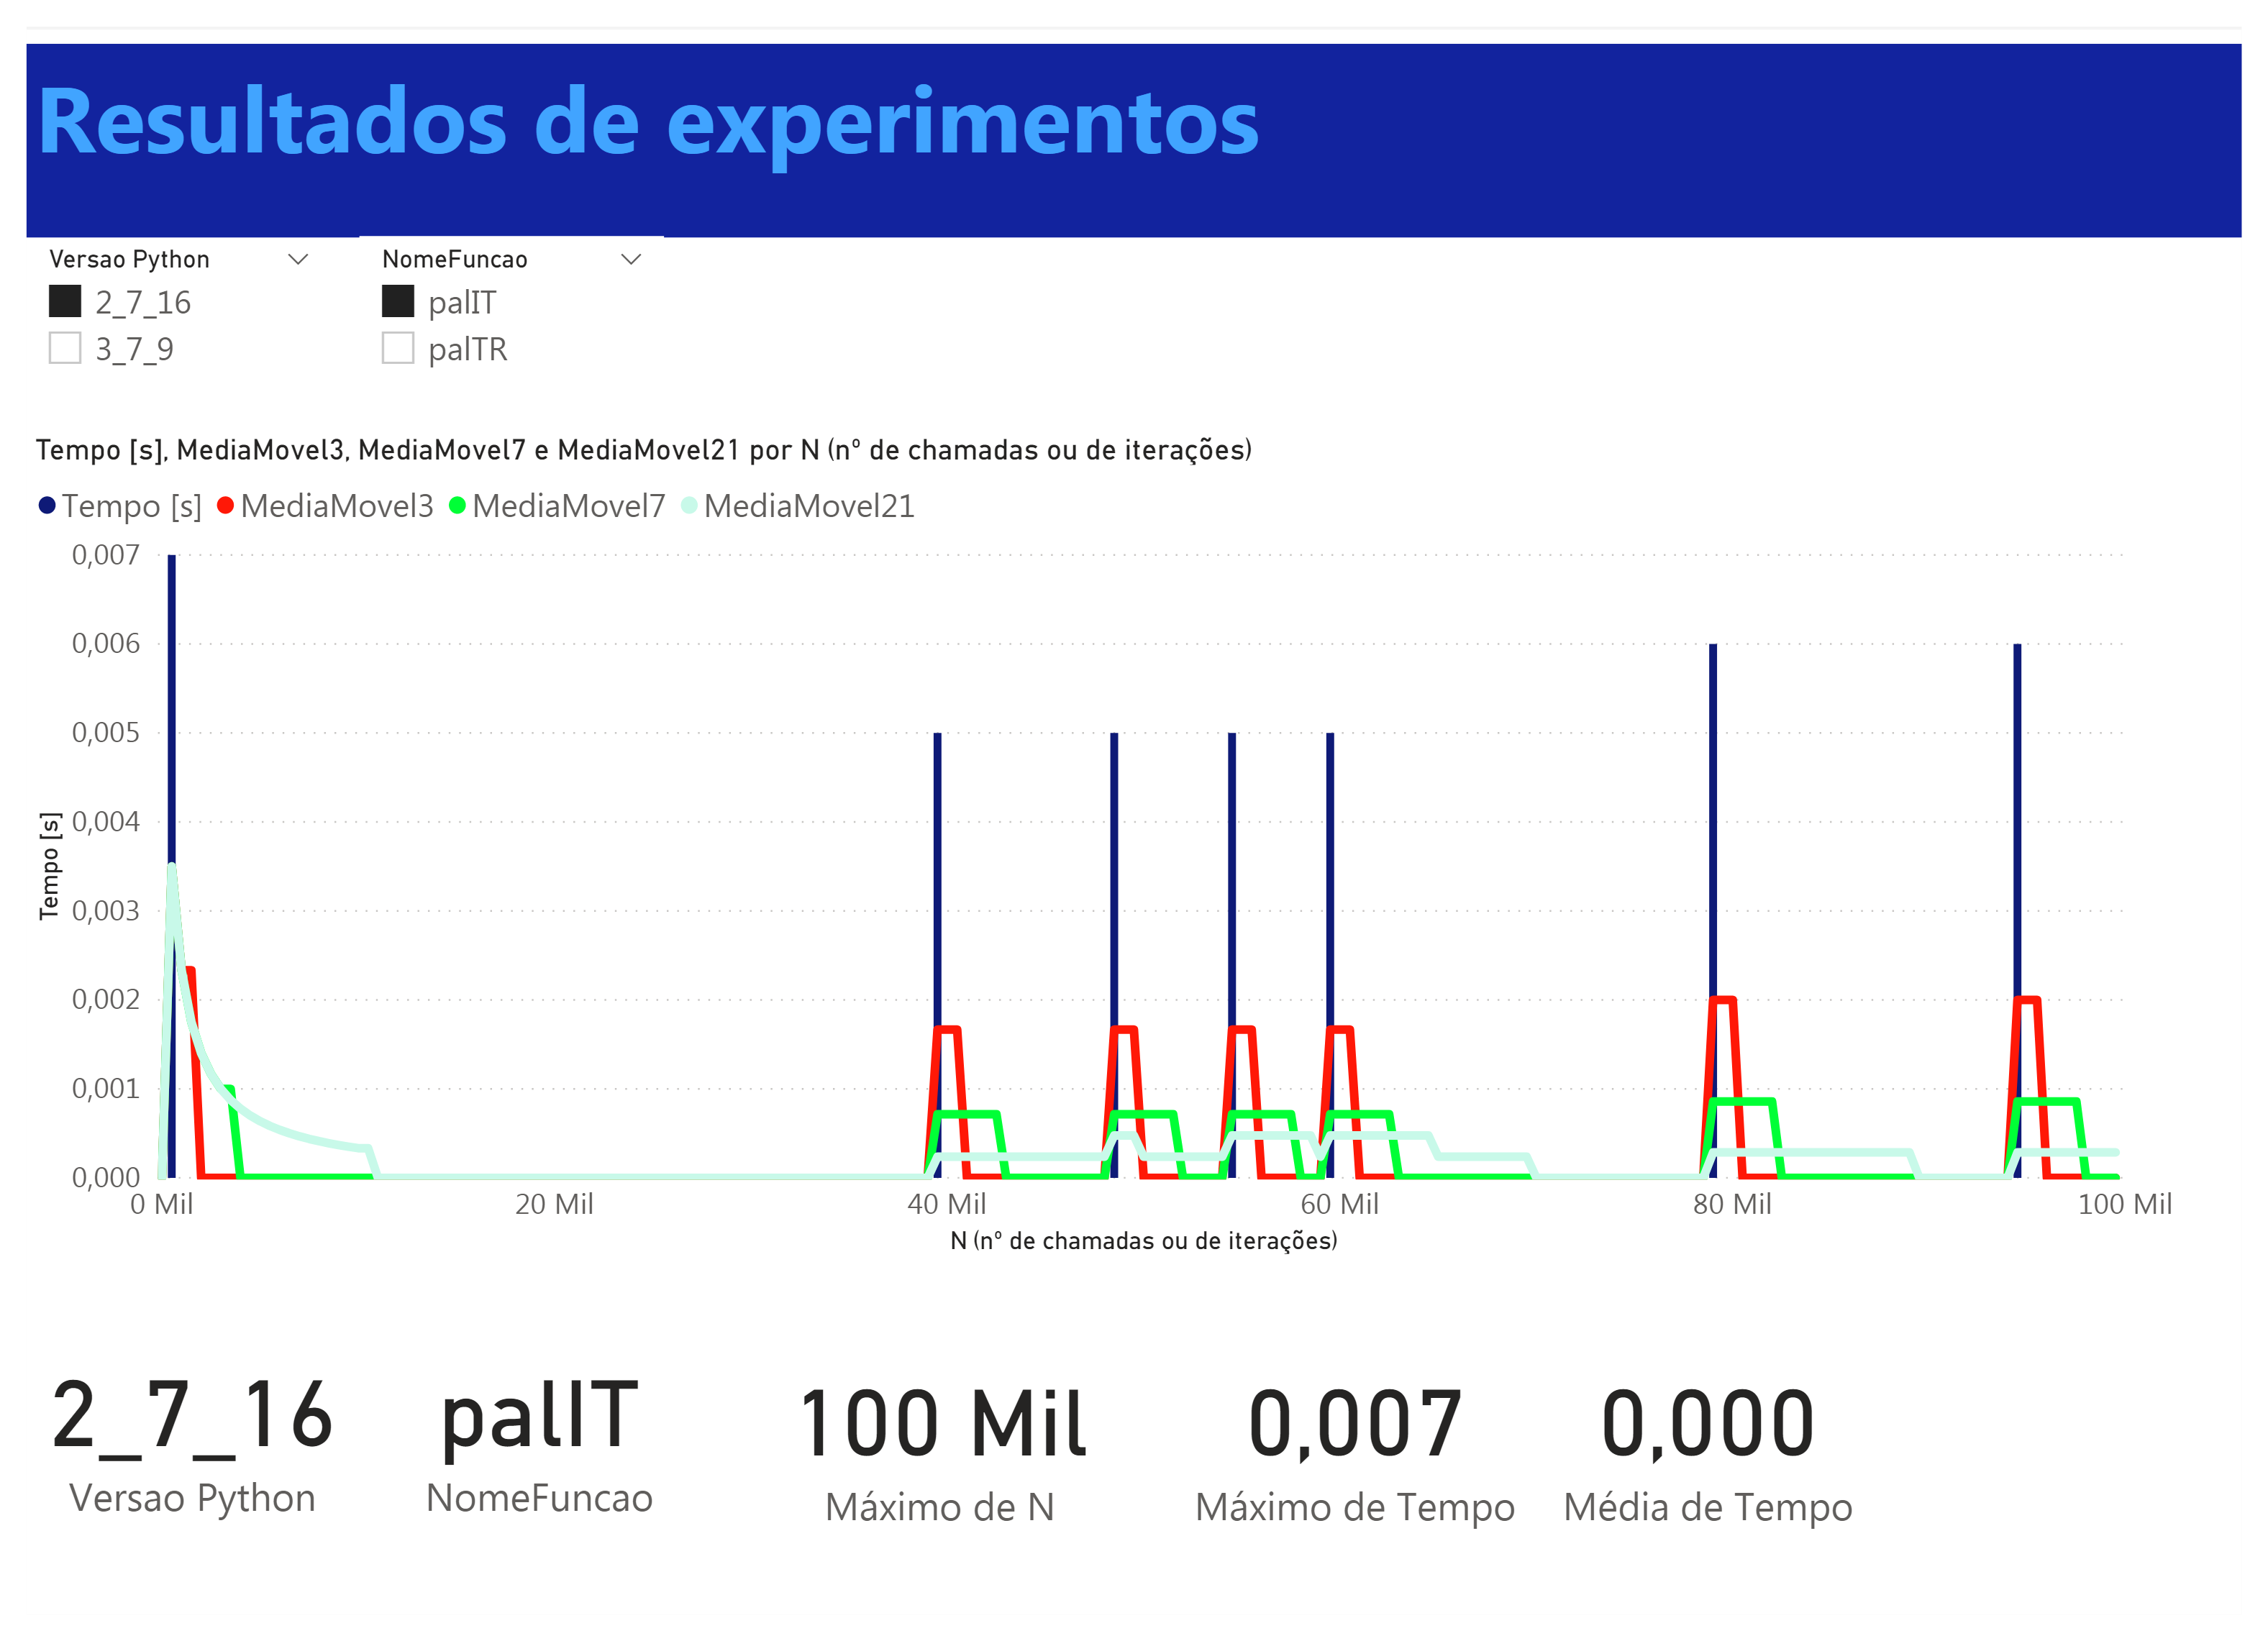

Layout of this report page (visuals, bound fields, positions):
{"tool":"powerbi","page":{"name":"Palíndromo","canvas":[1280,900],"ordinal":9},"visuals":[{"type":"card","fields":{"Values":["Max(Tabela1.Tempo)"]},"box":[648,720,240,168],"z":0},{"type":"card","fields":{"Values":["Min(Tabela1.NomeFuncao)"]},"box":[192,704,208,192],"z":1000},{"type":"card","fields":{"Values":["Max(Tabela1.N)"]},"box":[432,720,192,168],"z":2000},{"type":"card","fields":{"Values":["Avg(Tabela1.Tempo)"]},"box":[864,720,216,168],"z":3000},{"type":"slicer","fields":{"Values":["Tabela1.Versao Python"]},"box":[0,112,176,112],"z":4000},{"type":"card","fields":{"Values":["Min(Tabela1.Versao Python)"]},"box":[0,704,192,192],"z":5000},{"type":"textbox","box":[0,0,1280,112],"z":6000},{"type":"slicer","fields":{"Values":["Tabela1.NomeFuncao"]},"box":[192,112,176,112],"z":7000},{"type":"lineClusteredColumnComboChart","fields":{"Y":["Sum(Tabela1.Tempo)"],"Category":["Tabela1.N"],"Y2":["Tabela1.MediaMovel3","Tabela1.MediaMovel7","Tabela1.MediaMovel21"]},"box":[0,224,1248,480],"z":8000}]}

Visuals, with their boxes in screenshot pixels (x1, y1, x2, y2), scaled from the page's 1280x900 canvas onto the 2268x1641 screenshot:
card - Max(Tabela1.Tempo): (1148,1313,1573,1619)
card - Min(Tabela1.NomeFuncao): (340,1284,709,1634)
card - Max(Tabela1.N): (765,1313,1106,1619)
card - Avg(Tabela1.Tempo): (1531,1313,1913,1619)
slicer - Tabela1.Versao Python: (0,204,312,408)
card - Min(Tabela1.Versao Python): (0,1284,340,1634)
textbox: (0,0,2267,204)
slicer - Tabela1.NomeFuncao: (340,204,652,408)
lineClusteredColumnComboChart - Sum(Tabela1.Tempo) x Tabela1.N: (0,408,2211,1284)
